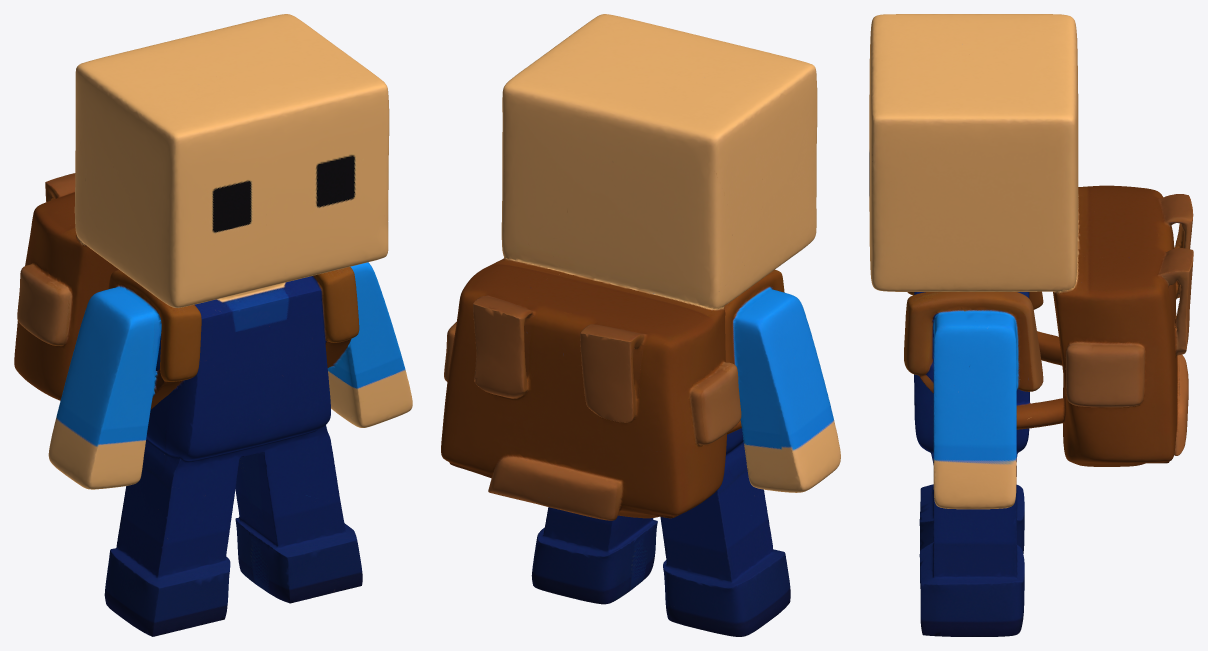
The model's file is meshy-numeria-boxhead-backpacker.glb.
3 views of the same model, side by side, from view 1: azimuth 30°, elevation 25°; view 2: azimuth 150°, elevation 25°; view 3: azimuth 270°, elevation 25° (orthographic).
Size of the model in its own units: 1.25 by 1.9 by 1.07.
Materials: 1 (1 with a texture image).
